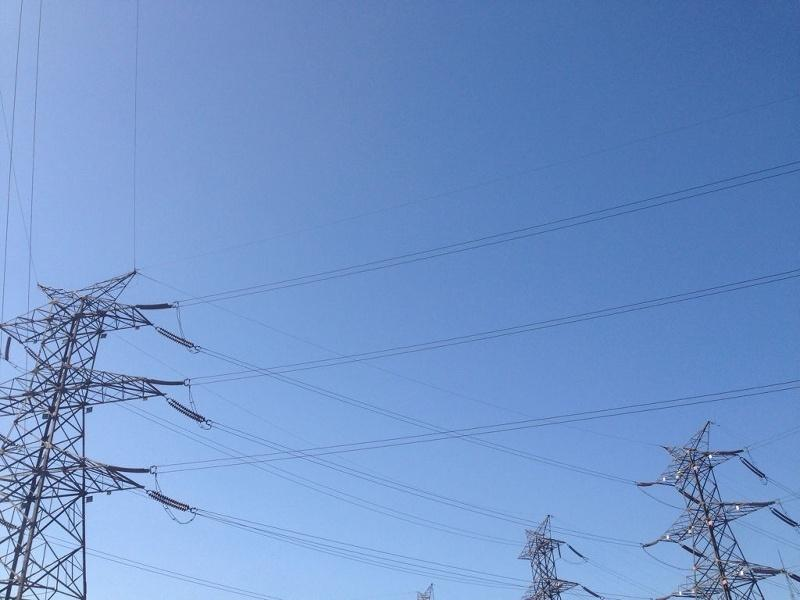power_tower: (11, 260, 215, 596), (629, 425, 789, 597), (508, 512, 578, 594)
